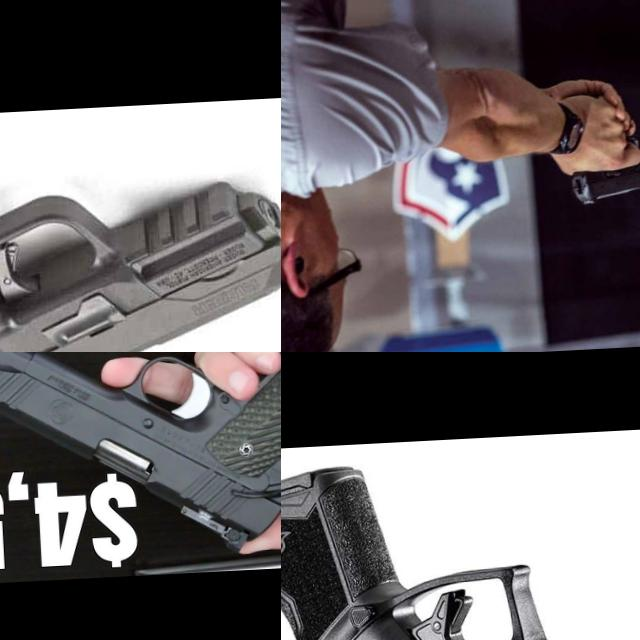handgun: (0, 107, 281, 352), (281, 449, 640, 640), (0, 352, 281, 569), (565, 133, 640, 209)
